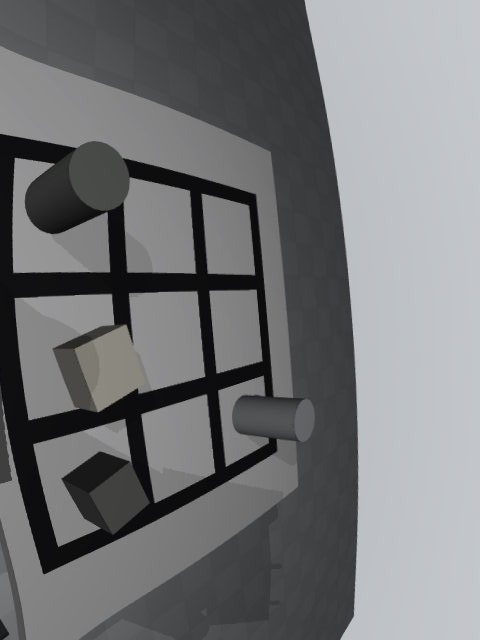can: (232, 395, 315, 442)
cube: (61, 451, 149, 535)
cylinder: (25, 141, 130, 234)
foam: (53, 324, 145, 413)
